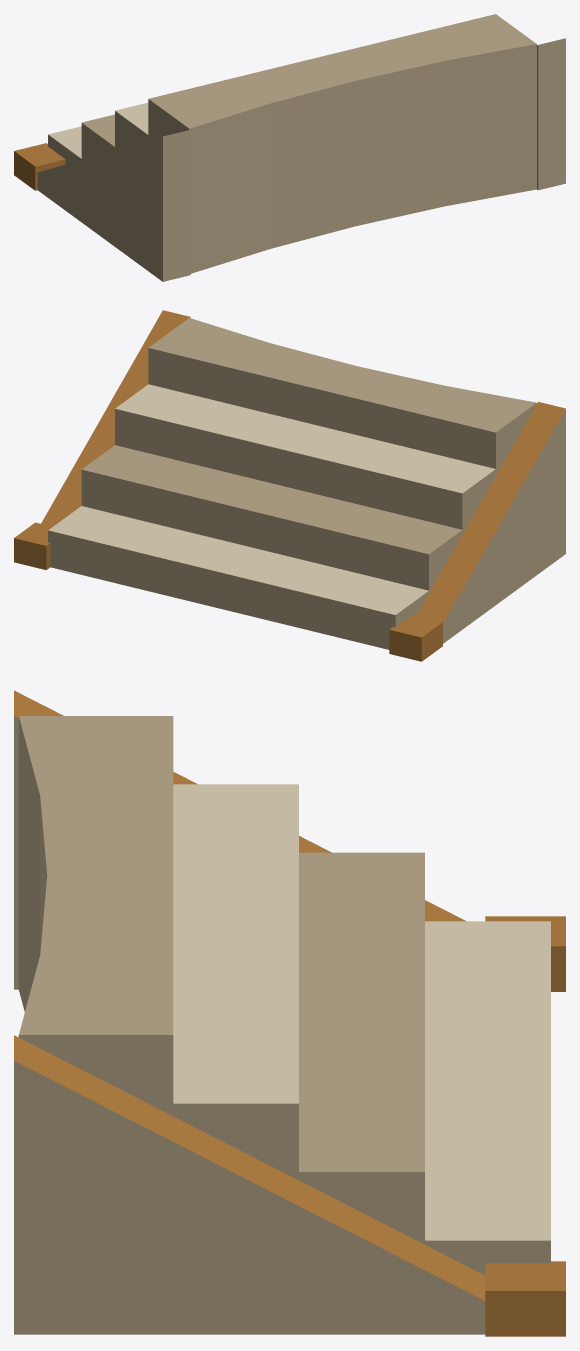
The model's file is SM_ColStairs.fbx.
3 views of the same model, one above another, from view 1: azimuth 30°, elevation 25°; view 2: azimuth 150°, elevation 25°; view 3: azimuth 270°, elevation 25° (orthographic). The views are drawn at different scales.
Visible parts, largest first — view 1: SM_ColStairs; view 2: SM_ColStairs; view 3: SM_ColStairs.
Boxes of the visible parts, box(x1,y1,x2,y2) form: SM_ColStairs: box(14, 14, 565, 281); SM_ColStairs: box(14, 310, 565, 661); SM_ColStairs: box(14, 690, 565, 1336).
Size of the model in its own units: 3.52 by 2.19 by 1.2.
